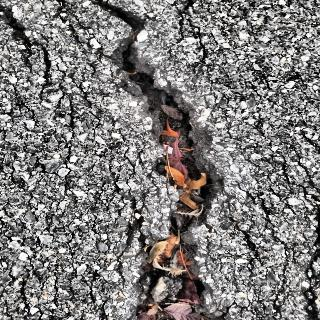crack: (90, 5, 240, 308)
